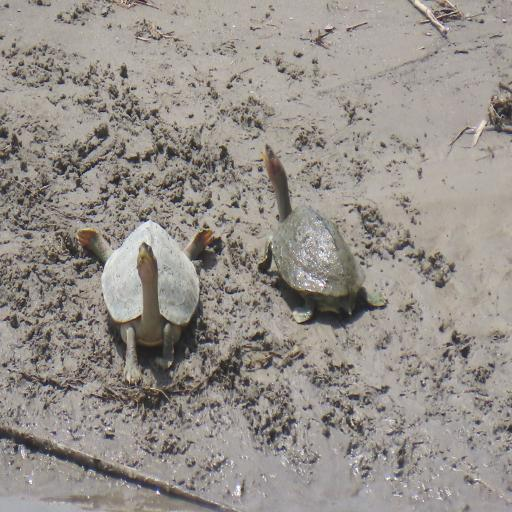turtle: (260, 146, 390, 324), (76, 225, 211, 377)
